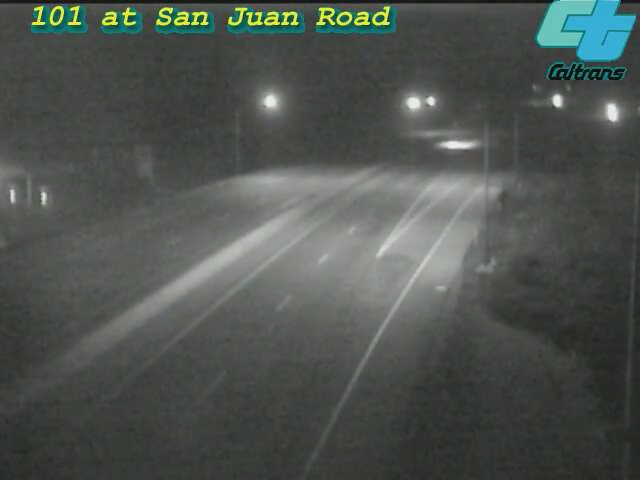vehicle: (432, 119, 482, 169), (586, 89, 636, 139)
